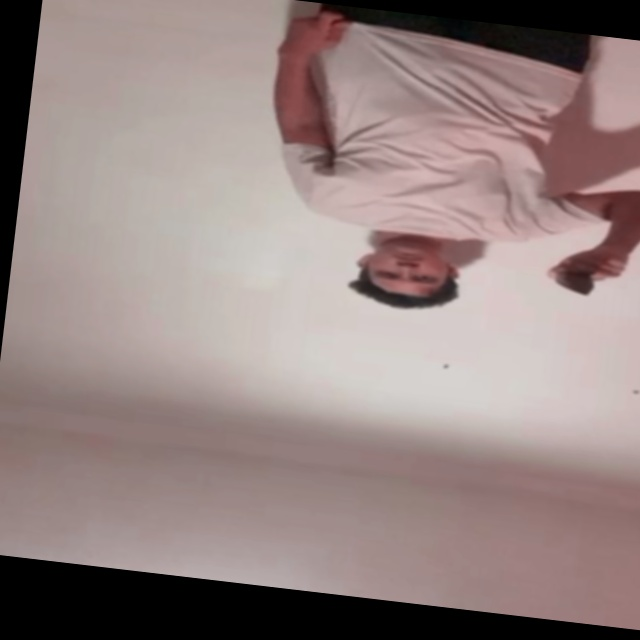Sharp-Object: (551, 271, 594, 297)
